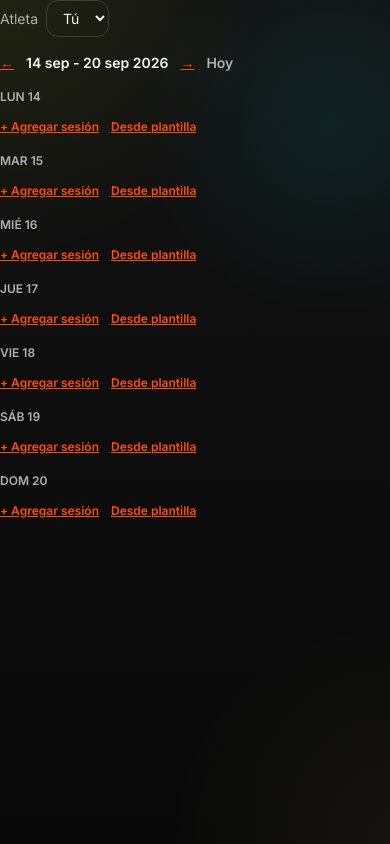
Scenario: CoachPlanningPanel interactions › un fallo al cargar el picker queda visible dentro del diálogo
Click the button "Desde plantilla" below "lun". click: x=154, y=127
box: [111,119,196,135]
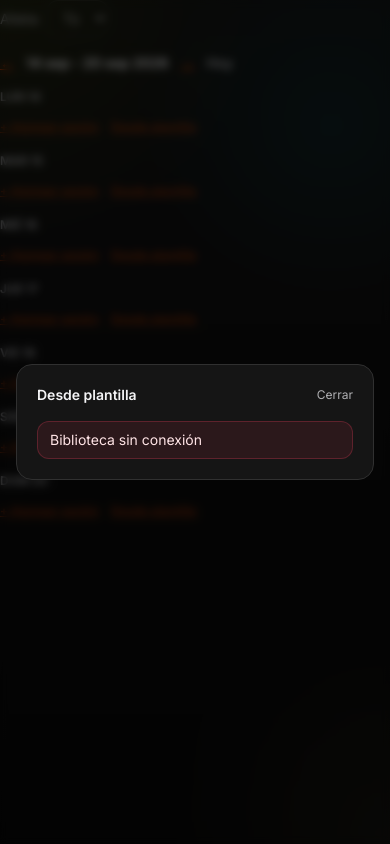
Check: the message reads "Biblioteca sin conexión", box [50,431,202,448]
